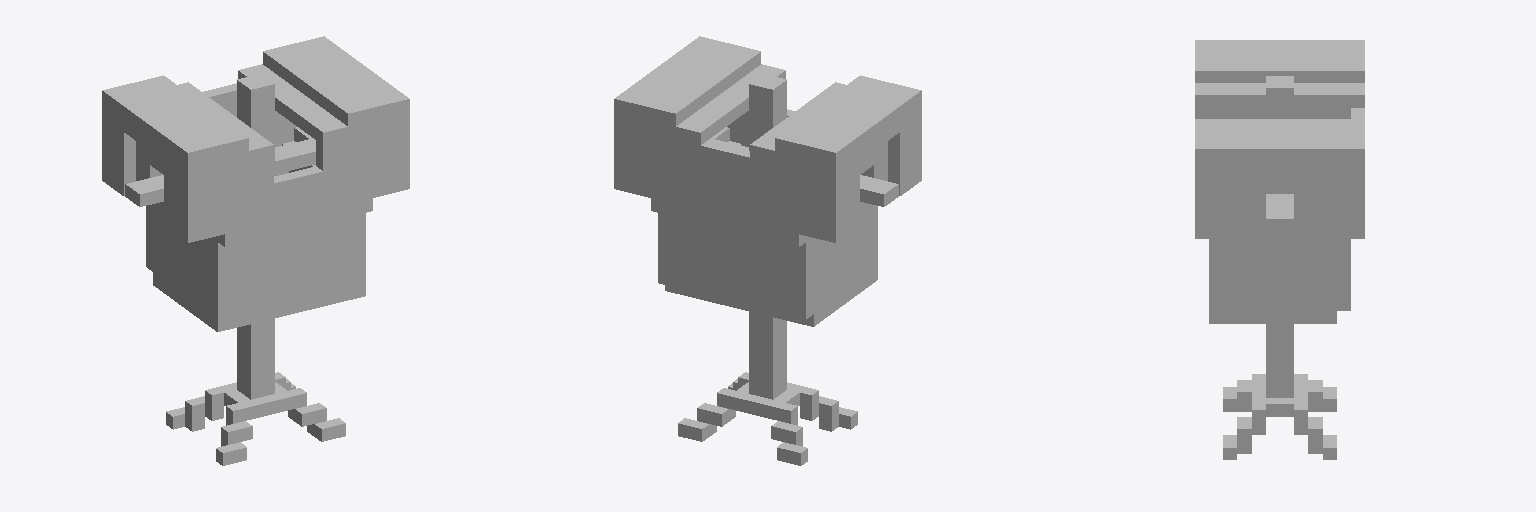
The model's file is stelaż 2.obj.
The picture shows the model from 3 angles: view 1: azimuth 30°, elevation 25°; view 2: azimuth 150°, elevation 25°; view 3: azimuth 270°, elevation 25°; orthographic projection.
Parts seen in each view (by area): view 1: object 1; view 2: object 1; view 3: object 1.
Boxes of the visible parts, <box> form: object 1: <box>102,36,409,465</box>; object 1: <box>614,36,921,465</box>; object 1: <box>1195,40,1364,459</box>.
Size of the model in its own units: 4 by 5.4 by 2.4.